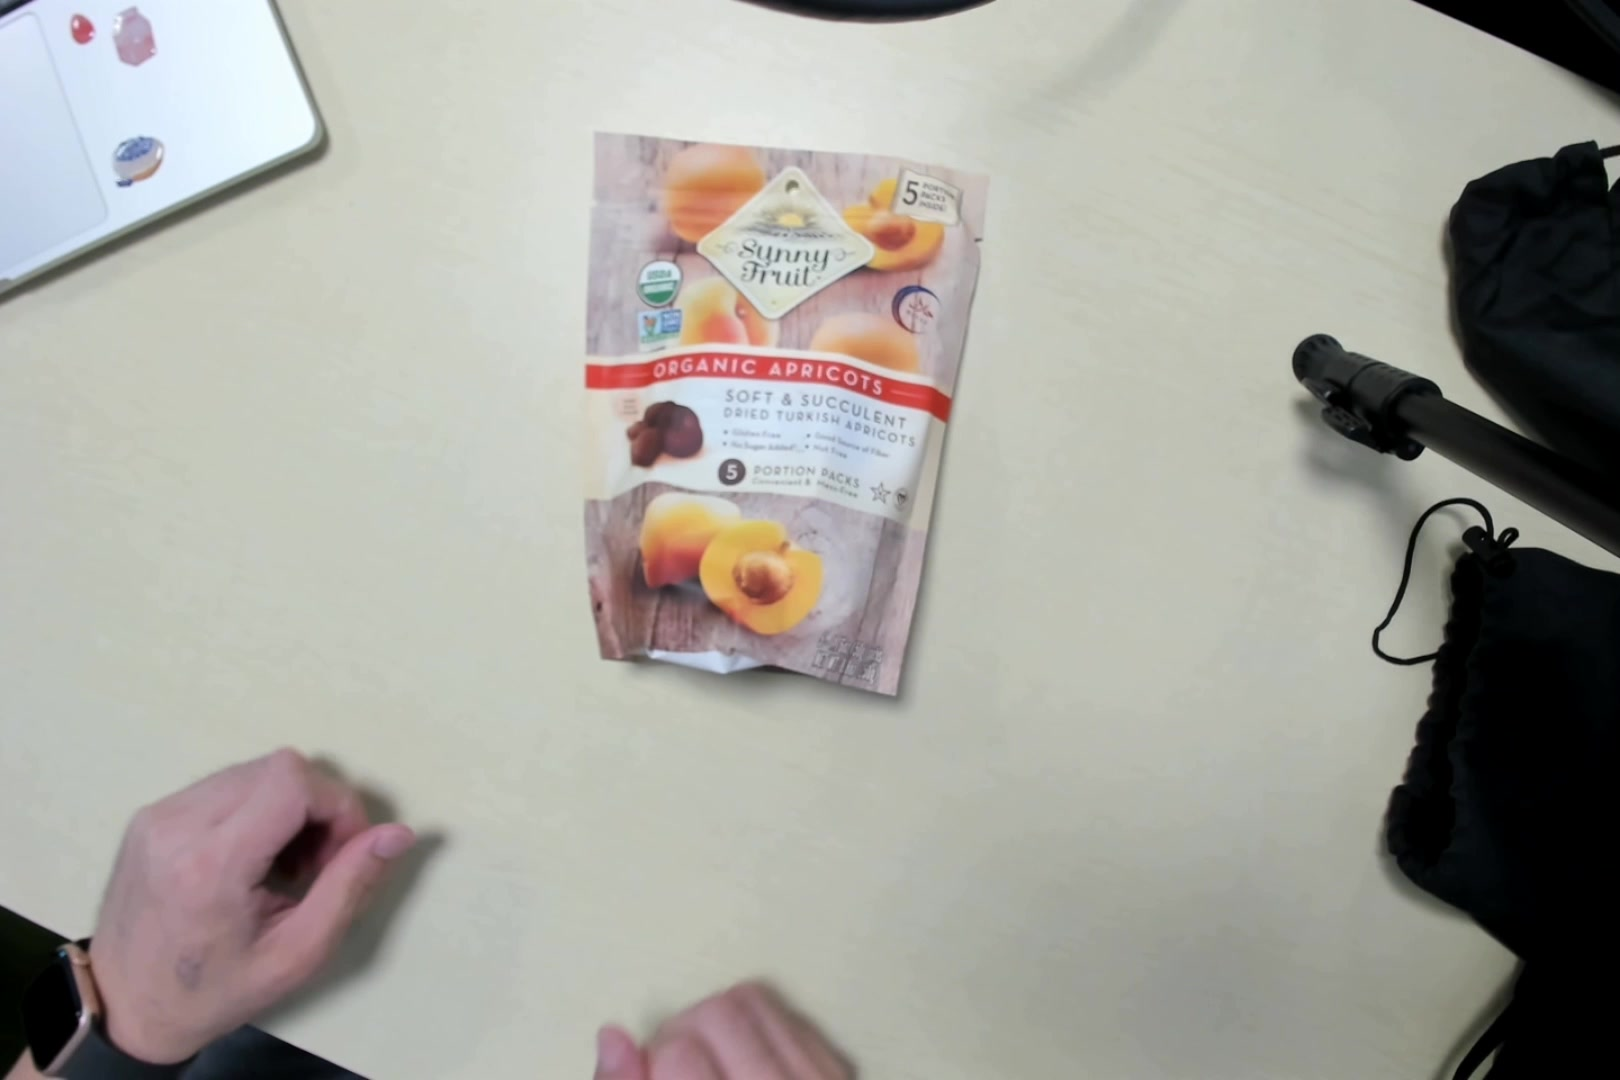DriedFood_0-99g_Halal_NonHealthy: (583, 131, 991, 720)
